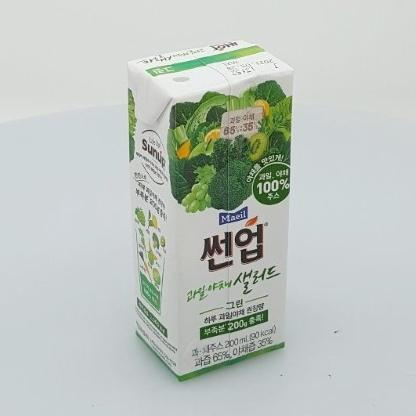-------------200ML: (125, 38, 293, 381)
